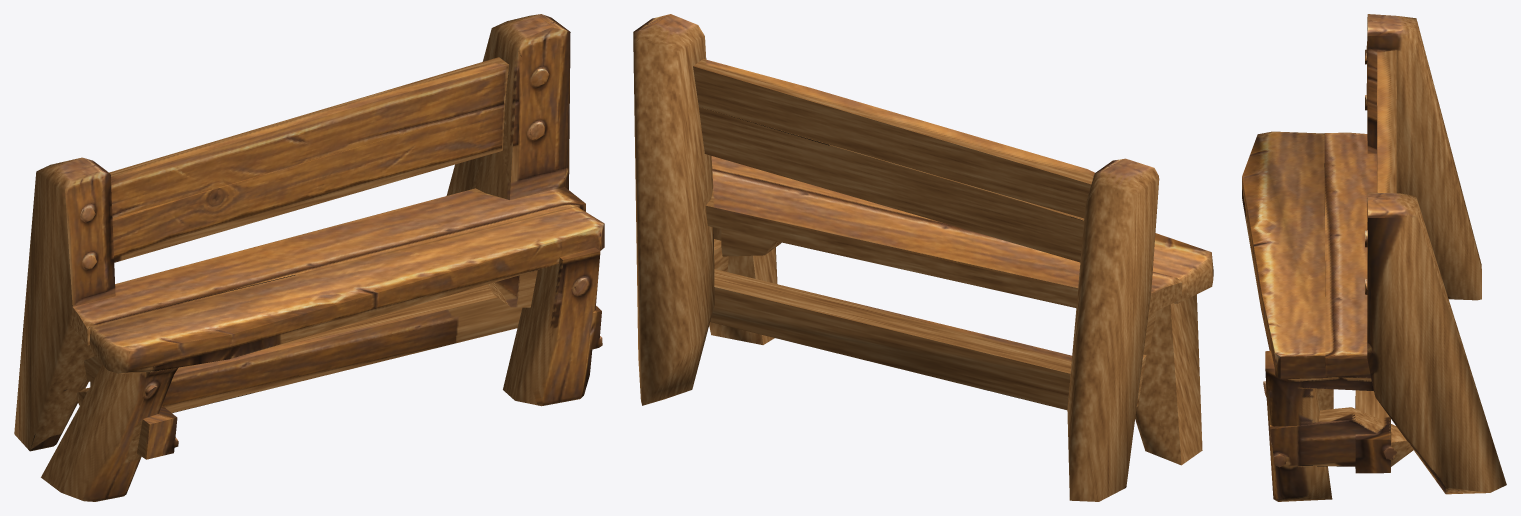
Rendered from bench.glb.
The picture shows the model from 3 angles, left to right: view 1: azimuth 30°, elevation 25°; view 2: azimuth 150°, elevation 25°; view 3: azimuth 270°, elevation 25°; orthographic projection. The views are drawn at different scales.
Visible parts, largest first — view 1: bench; view 2: bench; view 3: bench.
Boxes of the visible parts, left/top/right/bottom form: bench: left=14, top=14, right=604, bottom=501; bench: left=633, top=14, right=1213, bottom=501; bench: left=1242, top=14, right=1506, bottom=501.
Bounding box in the file's own units: 1.52 × 0.9 × 0.6999.
1 material, 1 textured.
